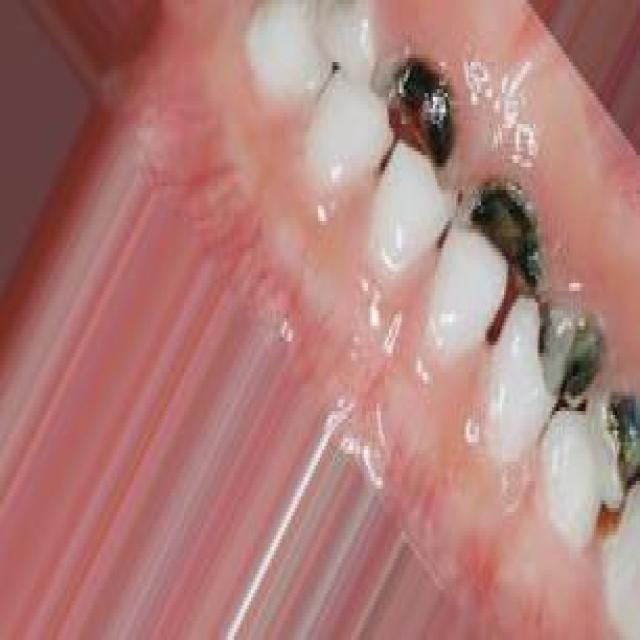caries: (457, 147, 540, 286), (384, 34, 458, 172), (540, 266, 602, 414), (594, 362, 640, 493)
